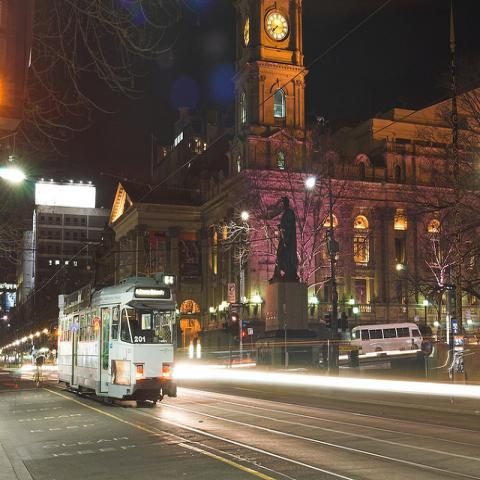bus: (56, 277, 178, 408), (350, 323, 422, 358)
